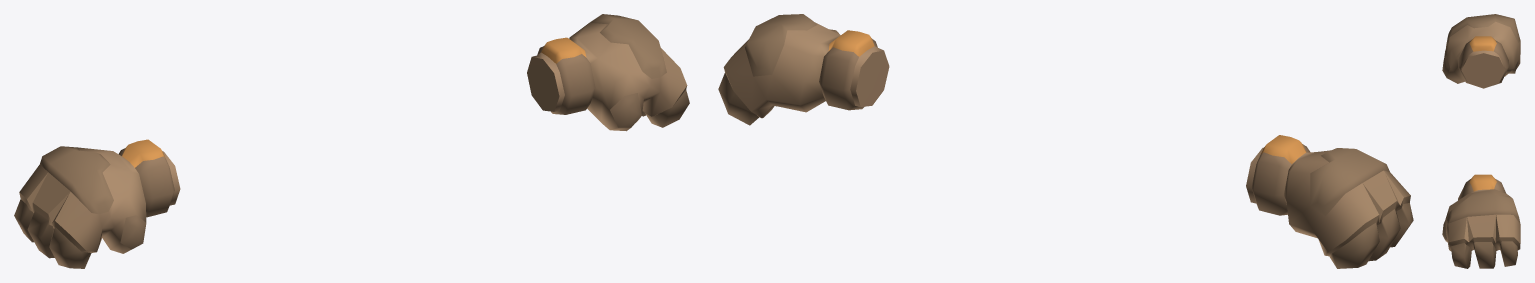
Rendered from Glove_4.fbx.
The picture shows the model from 3 angles, left to right: view 1: azimuth 30°, elevation 25°; view 2: azimuth 150°, elevation 25°; view 3: azimuth 270°, elevation 25°; orthographic projection. The views are drawn at different scales.
Visible parts, largest first — view 1: Glove_4; view 2: Glove_4; view 3: Glove_4.
Part boxes in pixels (bbox=[...]): Glove_4: bbox=[14, 14, 689, 268]; Glove_4: bbox=[718, 14, 1413, 268]; Glove_4: bbox=[1442, 14, 1520, 268].
Size of the model in its own units: 136 by 19.56 by 21.27.
